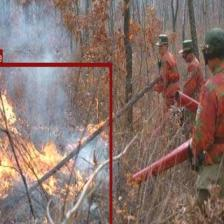fire: (0, 62, 112, 224)
